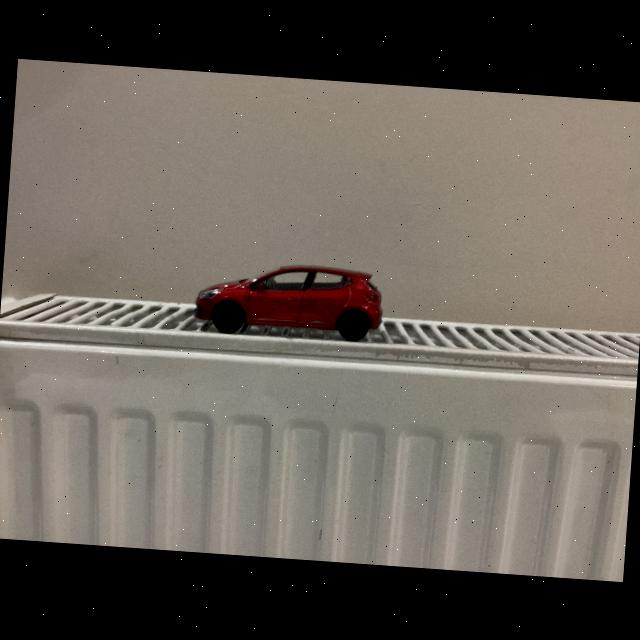Dogru_Jant: (339, 312, 368, 339), (214, 304, 242, 331)
